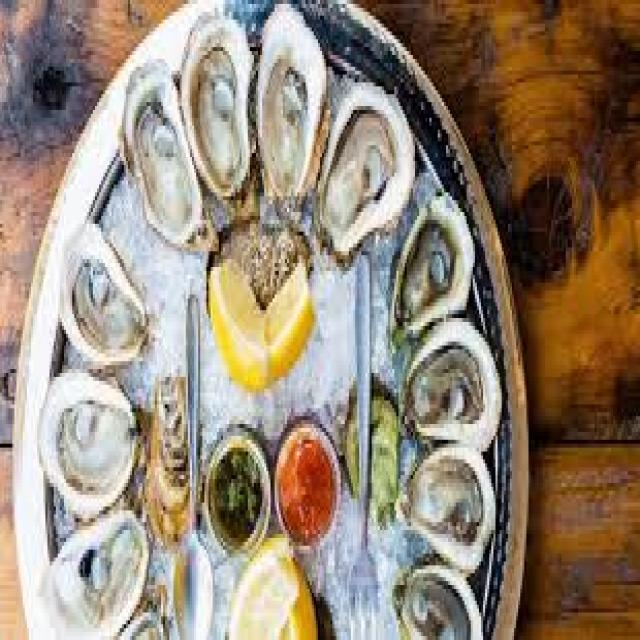Lemon: (223, 542, 301, 640), (212, 262, 268, 394), (266, 265, 314, 374)
Oysters: (258, 3, 322, 214), (328, 80, 415, 235), (38, 369, 140, 501), (56, 220, 146, 359), (46, 508, 148, 629), (124, 63, 186, 249), (399, 445, 496, 562), (410, 312, 503, 433), (184, 16, 250, 186), (402, 196, 476, 320), (392, 565, 488, 640)
